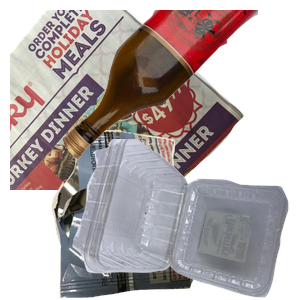glass: (60, 10, 300, 163)
paper: (10, 10, 247, 190)
plastic: (70, 139, 300, 300)
trash: (49, 130, 235, 300)
